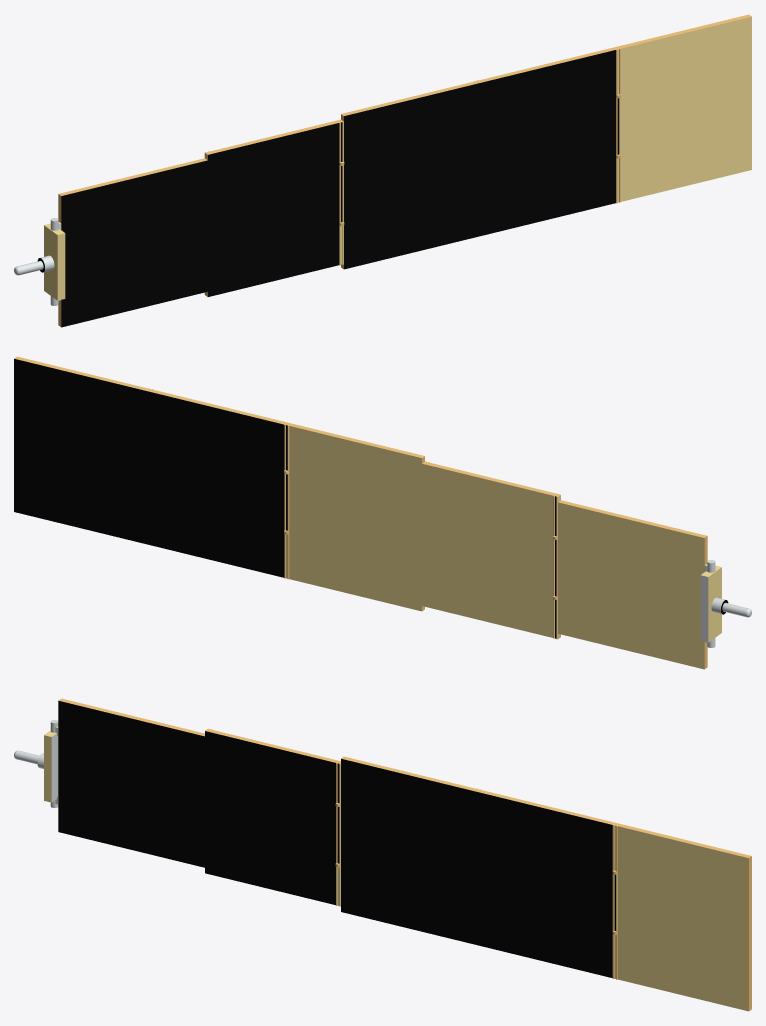
The model's file is fu2pplus_1.FBX.
3 renders of one model, top to bottom at view 1: azimuth 30°, elevation 25°; view 2: azimuth 150°, elevation 25°; view 3: azimuth 330°, elevation 25°, orthographic.
Visible parts, largest first — view 1: Subensamble N52 ISS-1/Subensamble N51 ISS-1/Subensamble N48 ; view 2: Subensamble N52 ISS-1/Subensamble N51 ISS-1/Subensamble N48 ; view 3: Subensamble N52 ISS-1/Subensamble N51 ISS-1/Subensamble N48 .
Boxes of the visible parts, box(x1,y1,x2,y2) form: Subensamble N52 ISS-1/Subensamble N51 ISS-1/Subensamble N48 : box(14, 14, 751, 327); Subensamble N52 ISS-1/Subensamble N51 ISS-1/Subensamble N48 : box(14, 356, 751, 669); Subensamble N52 ISS-1/Subensamble N51 ISS-1/Subensamble N48 : box(14, 698, 751, 1011).
Size of the model in its own units: 1406 by 280 by 45.
